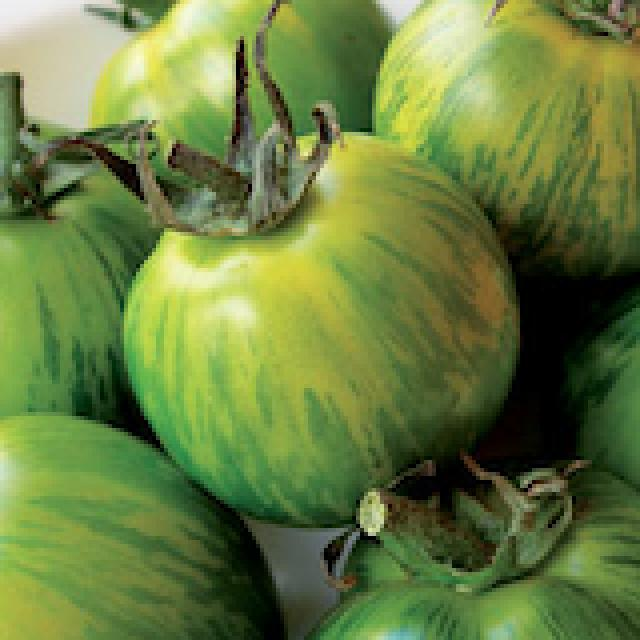yesil: (15, 34, 607, 616)
